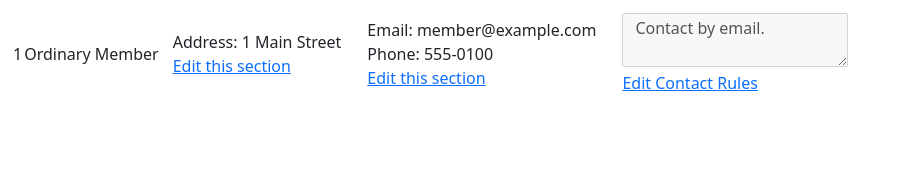
Test case: disables the address save button while saving
Click the text "Edit this section" below "Address:" at (232, 66), box [173,55,291,77]
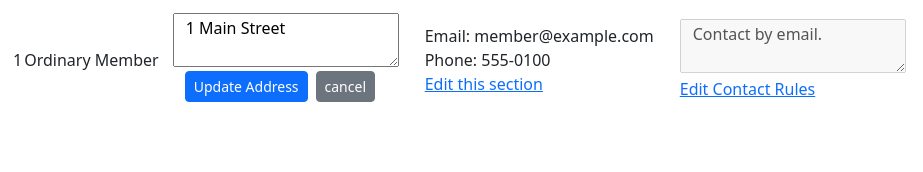
Click the button "Update Address" at (246, 86), box [185,71,308,102]
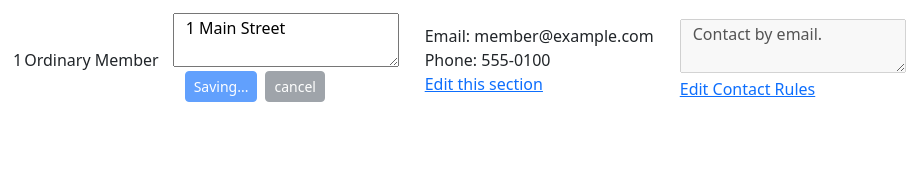
Now the button named "Update Address" is disabled, box [185,71,258,102]
Now the button named "Update Address" reads "Saving...", box [185,71,258,102]
